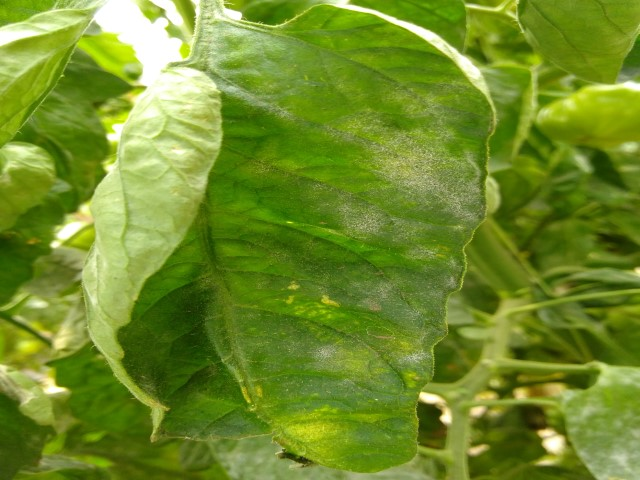oidio: (367, 139, 476, 216), (332, 198, 408, 245), (315, 345, 356, 366), (398, 346, 433, 370)
